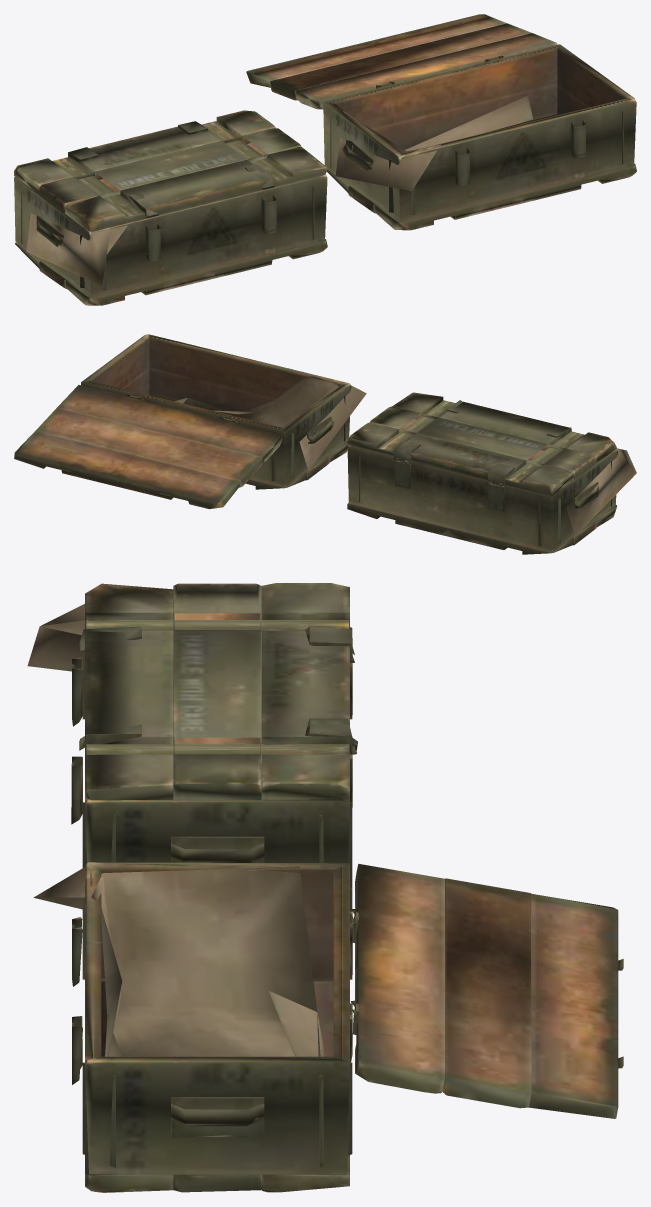
The model's file is old_military_crate.glb.
3 views of the same model, one above another, from view 1: azimuth 30°, elevation 25°; view 2: azimuth 150°, elevation 25°; view 3: azimuth 270°, elevation 25° (orthographic). The views are drawn at different scales.
Visible parts, largest first — view 1: old_military_crate_lid_a; view 2: old_military_crate_lid_a; view 3: old_military_crate_lid_a.
Part boxes in pixels (bbox=[...]): old_military_crate_lid_a: bbox=[14, 14, 636, 305]; old_military_crate_lid_a: bbox=[14, 334, 636, 554]; old_military_crate_lid_a: bbox=[27, 583, 623, 1192].
Size of the model in its own units: 1.81 by 0.2735 by 0.9677.
1 material, 1 textured.
